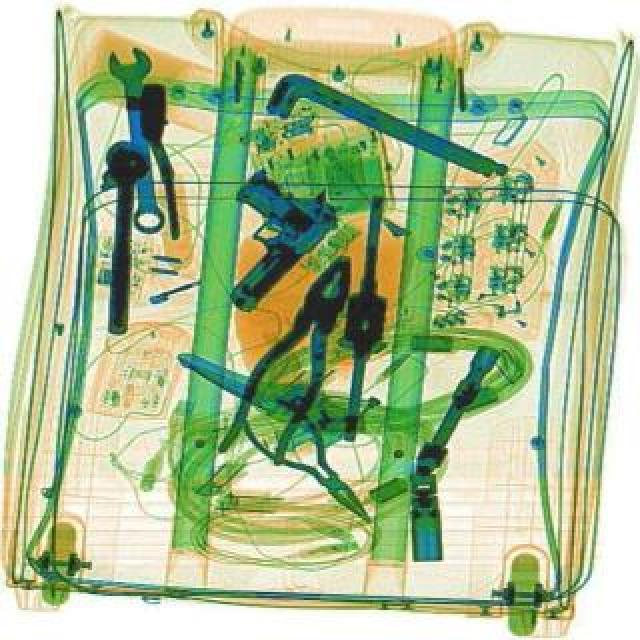gun: (170, 150, 352, 316)
scissors: (106, 44, 176, 236)
wrench: (212, 240, 380, 474), (232, 388, 392, 540)
